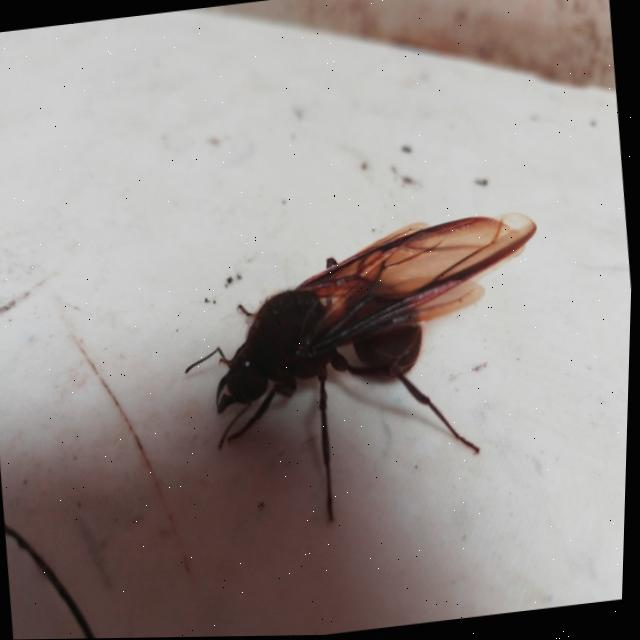Alive-Female-Alate: (169, 208, 567, 540)
